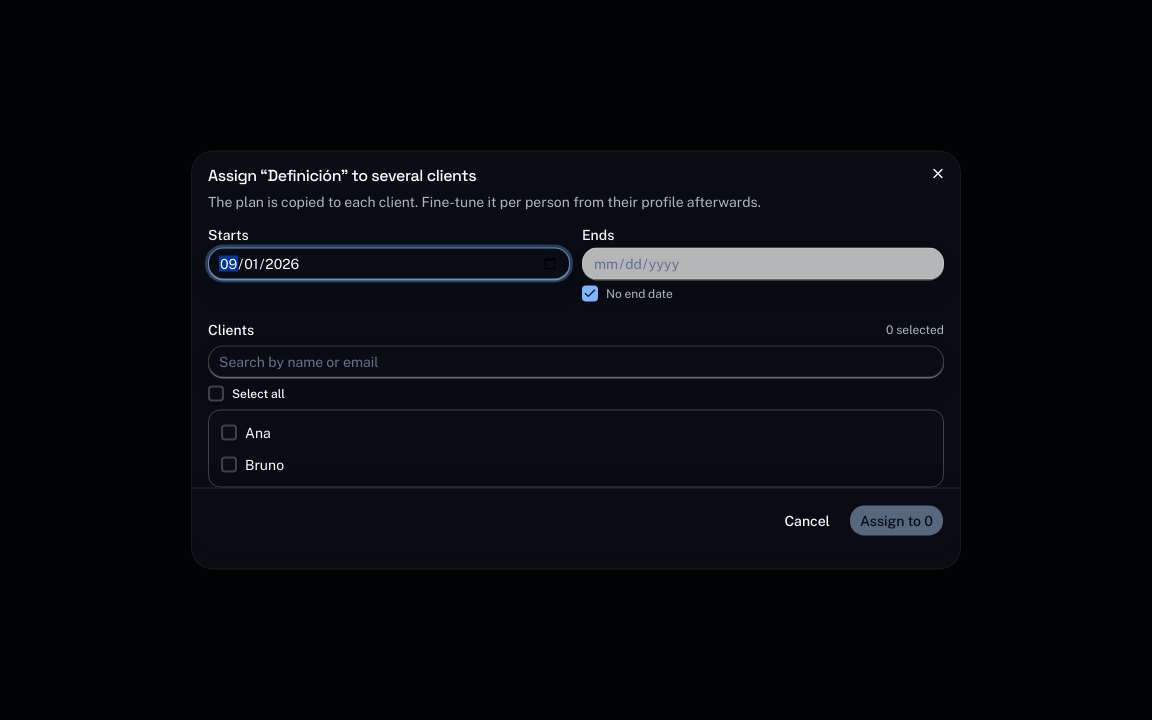
it: NutritionBulkAssignDialog › marks a client who has never signed in as blocked, not as a stranger
Click the checkbox next to "Ana".
click(229, 432)  # box 221,424 -> 237,440
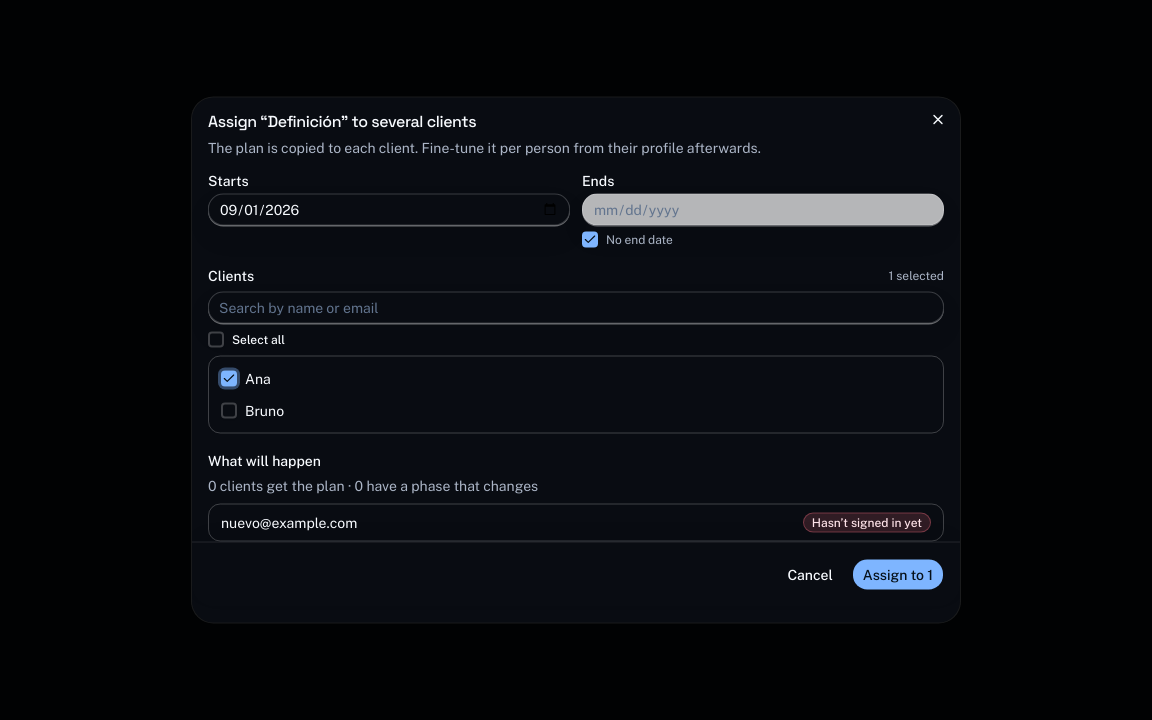
Check: the list with test id "nutrition-bulk-preview" shows "Hasn’t signed in yet", box 812,516 -> 922,530
